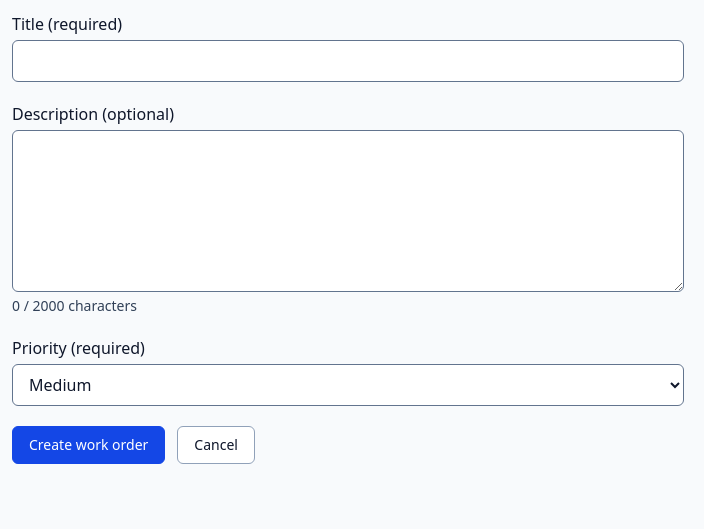
Test case: WorkOrderForm › shows server field errors, flags the fields, keeps input and focuses the first invalid field
Type "a" into the field labelled "Title (required)" at {"x": 348, "y": 61}, box [12,40,684,82]
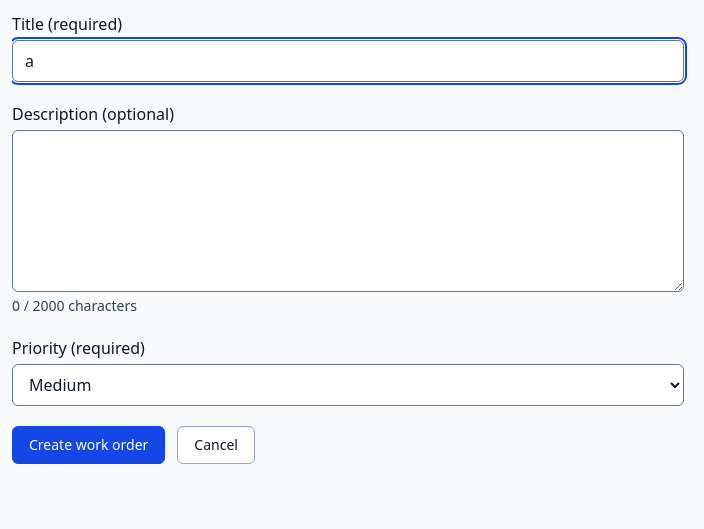
Type "keep me" into the text box labelled "Description (optional)" at {"x": 348, "y": 211}, box [12,130,684,292]
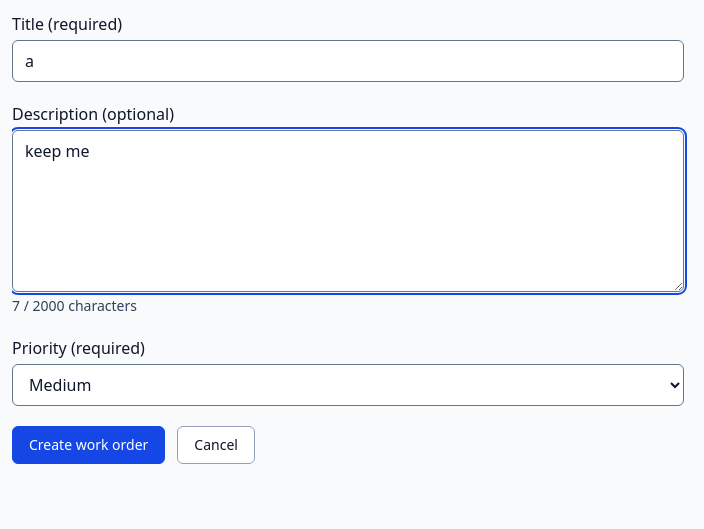
Click the button "Create work order" at {"x": 89, "y": 445}, box [12,426,165,464]
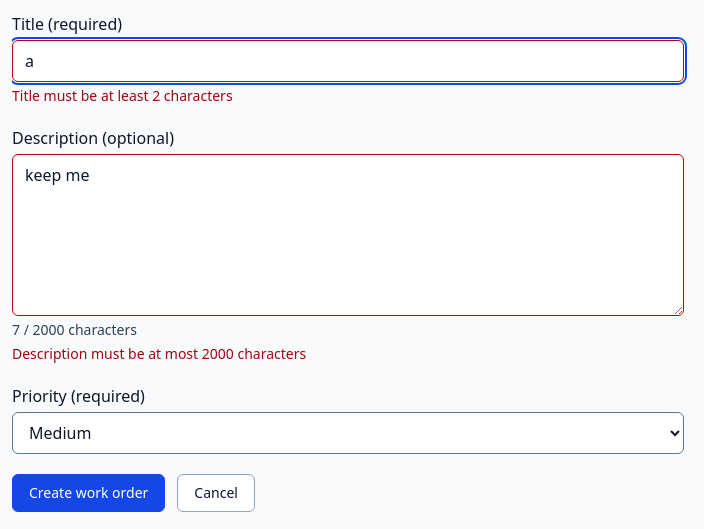
Result: the text "Title must be at least 2 characters" is shown at [12,86,233,105]
Result: the text "Description must be at most 2000 characters" is shown at [12,344,306,363]
